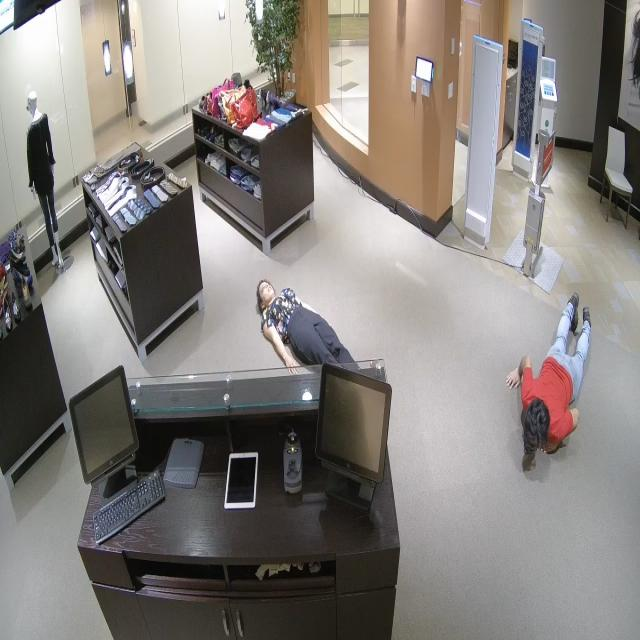fall: (499, 276, 599, 484), (242, 263, 388, 391)
